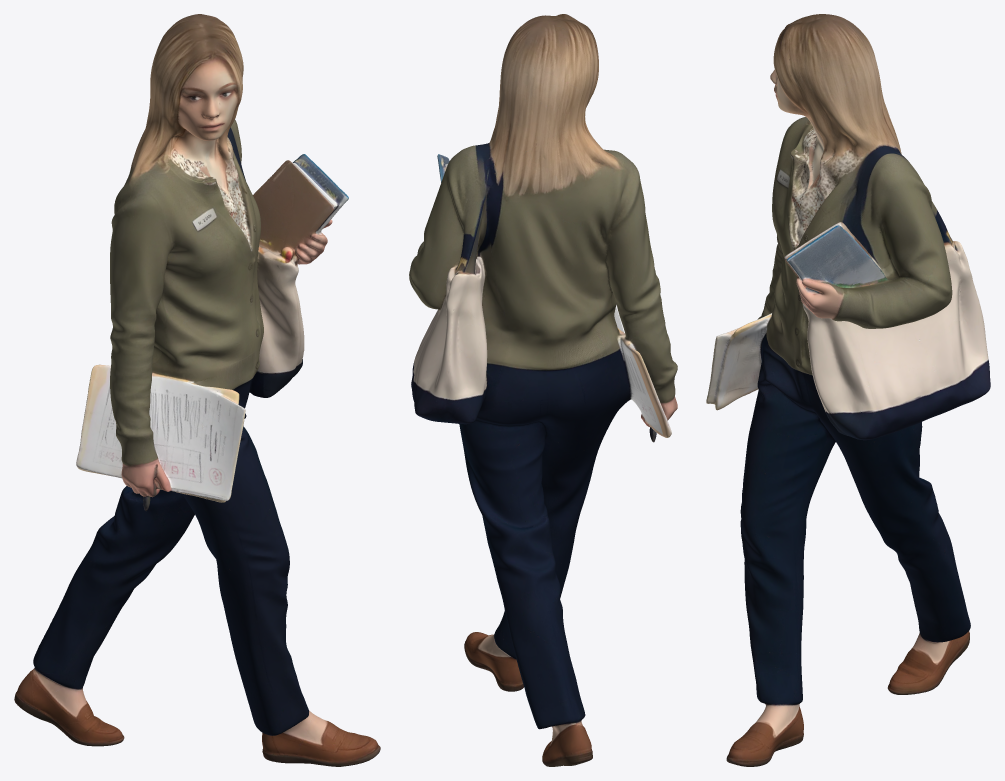
The model's file is school_girl_v21.glb.
3 renders of one model, left to right at view 1: azimuth 30°, elevation 25°; view 2: azimuth 150°, elevation 25°; view 3: azimuth 270°, elevation 25°, orthographic. The views are drawn at different scales.
Parts seen in each view (by area): view 1: Object_5, Object_6; view 2: Object_6, Object_5; view 3: Object_6, Object_5.
Part boxes in pixels (bbox=[...]): Object_5: bbox=[76, 15, 380, 766]; Object_6: bbox=[14, 14, 346, 746]; Object_6: bbox=[409, 15, 665, 766]; Object_5: bbox=[417, 14, 677, 691]; Object_6: bbox=[777, 15, 990, 694]; Object_5: bbox=[706, 14, 934, 766].
Size of the model in its own units: 0.7015 by 1.9 by 0.7031.
Materials: 1 (1 with a texture image).
